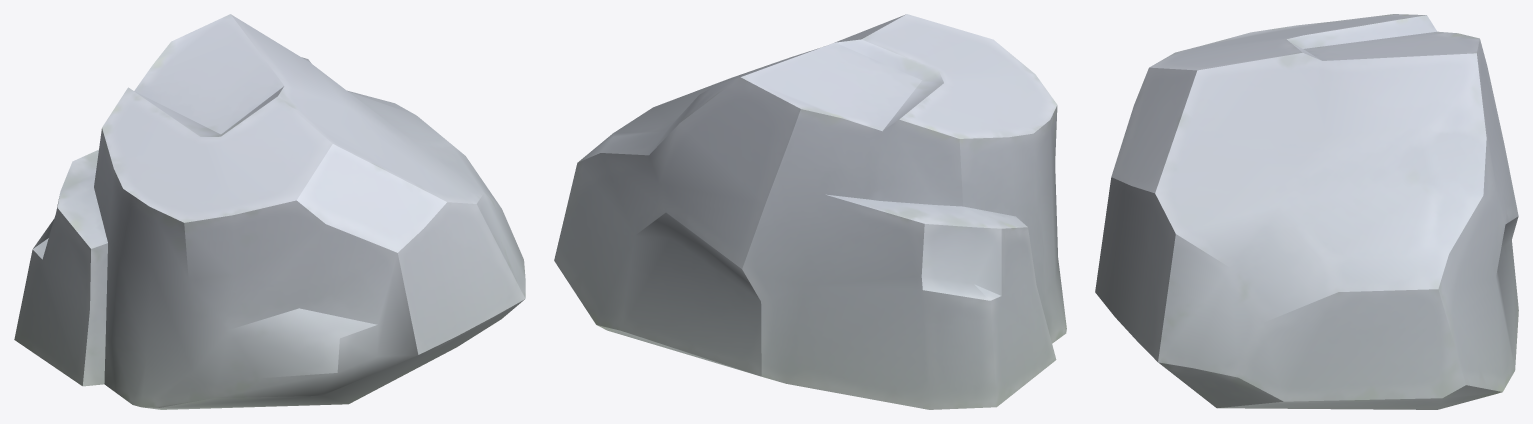
The model's file is SnowRock_Medium_2.obj.
3 views of the same model, side by side, from view 1: azimuth 30°, elevation 25°; view 2: azimuth 150°, elevation 25°; view 3: azimuth 270°, elevation 25° (orthographic). The views are drawn at different scales.
Parts seen in each view (by area): view 1: SnowRock_Medium_2; view 2: SnowRock_Medium_2; view 3: SnowRock_Medium_2.
Boxes of the visible parts, left/top/right/bottom form: SnowRock_Medium_2: left=14, top=14, right=525, bottom=409; SnowRock_Medium_2: left=554, top=14, right=1066, bottom=409; SnowRock_Medium_2: left=1095, top=14, right=1518, bottom=409.
Size of the model in its own units: 3.05 by 1.9 by 2.48.
1 material, 1 textured.
